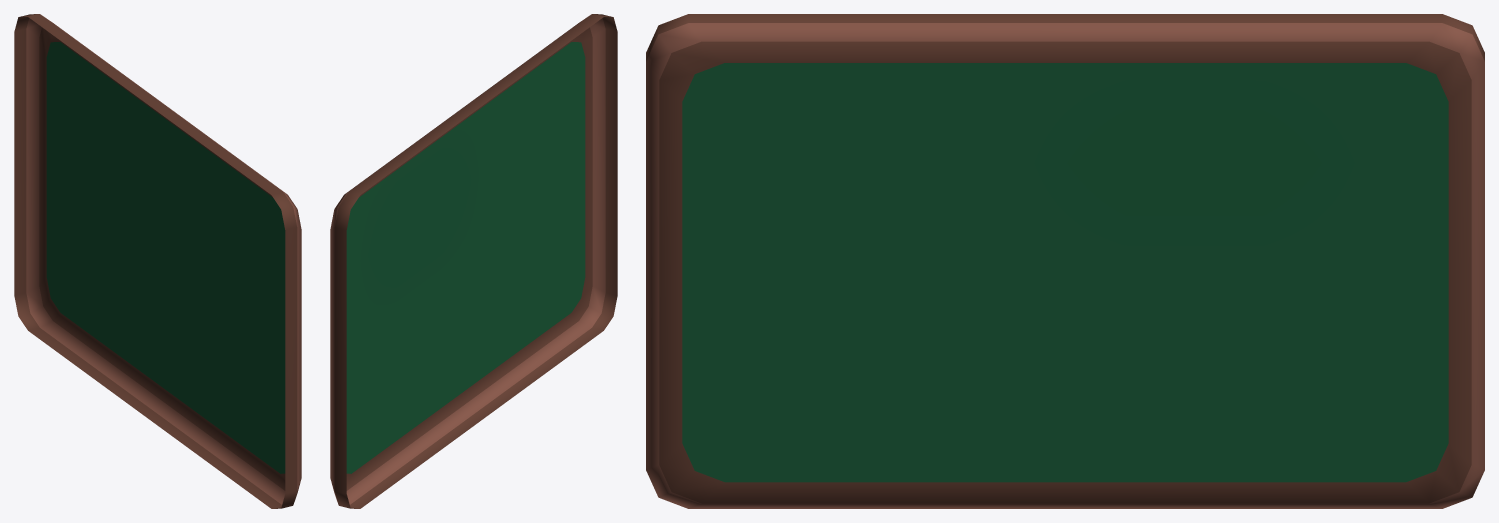
File: Note Board.fbx
3 views of the same model, side by side, from view 1: azimuth 30°, elevation 25°; view 2: azimuth 150°, elevation 25°; view 3: azimuth 270°, elevation 25° (orthographic). The views are drawn at different scales.
Parts seen in each view (by area): view 1: Note Board; view 2: Note Board; view 3: Note Board.
Part boxes in pixels (<box>): Note Board: <box>14,14,301,508</box>; Note Board: <box>330,14,617,508</box>; Note Board: <box>646,14,1484,508</box>.
Size of the model in its own units: 0.6629 by 9.6 by 15.03.
